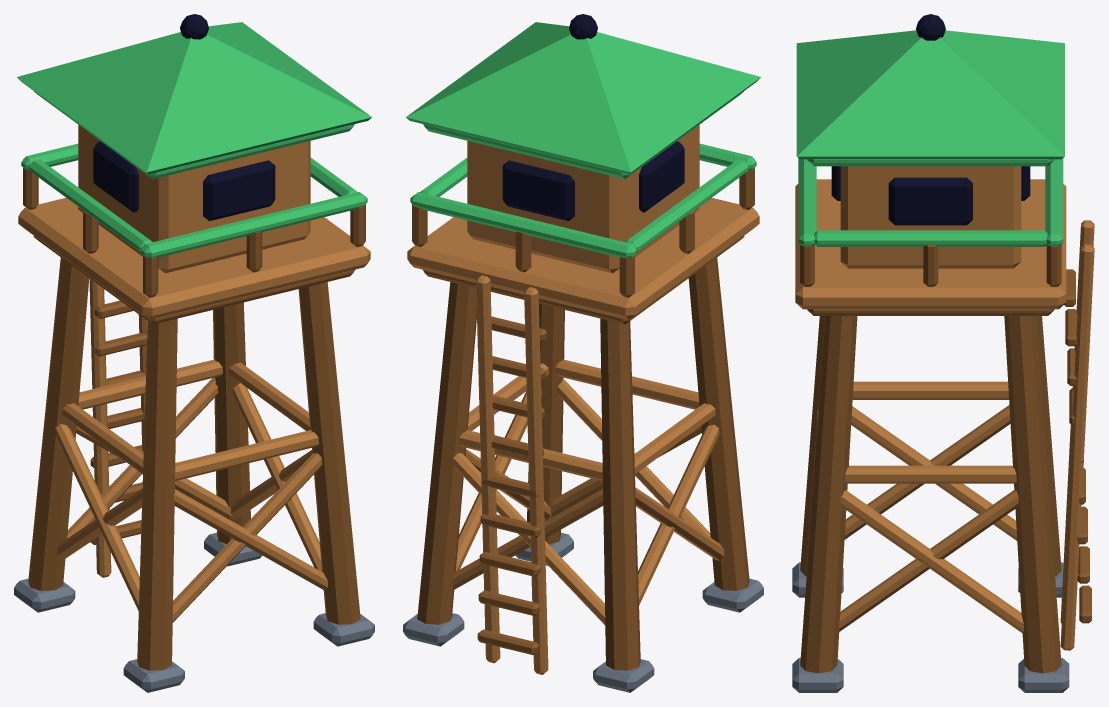
Rendered from Prop_ninja_village_WatchPost.glb.
3 renders of one model, left to right at view 1: azimuth 30°, elevation 25°; view 2: azimuth 150°, elevation 25°; view 3: azimuth 270°, elevation 25°, orthographic. The views are drawn at different scales.
Parts seen in each view (by area): view 1: Wood_B5793F, Log_8A5A2B, LeafGreen_3FBF6A, Ink_0D0F2B, StoneDark_6B7686; view 2: Wood_B5793F, Log_8A5A2B, LeafGreen_3FBF6A, Ink_0D0F2B, StoneDark_6B7686; view 3: Wood_B5793F, LeafGreen_3FBF6A, Log_8A5A2B, Ink_0D0F2B, StoneDark_6B7686.
Boxes of the visible parts, box(x1,y1,x2,y2) form: Wood_B5793F: box(18, 125, 370, 622); Log_8A5A2B: box(23, 167, 365, 670); LeafGreen_3FBF6A: box(17, 22, 371, 257); Ink_0D0F2B: box(93, 14, 275, 220); StoneDark_6B7686: box(14, 532, 374, 692); Wood_B5793F: box(407, 125, 759, 674); Log_8A5A2B: box(412, 167, 754, 670); LeafGreen_3FBF6A: box(406, 22, 760, 257); Ink_0D0F2B: box(502, 14, 684, 220); StoneDark_6B7686: box(403, 532, 763, 692); Wood_B5793F: box(795, 166, 1094, 650); LeafGreen_3FBF6A: box(796, 30, 1064, 246); Log_8A5A2B: box(800, 244, 1091, 673); Ink_0D0F2B: box(831, 14, 1030, 225); StoneDark_6B7686: box(792, 562, 1069, 692).
Size of the model in its own units: 9.2 by 22.81 by 10.04.
